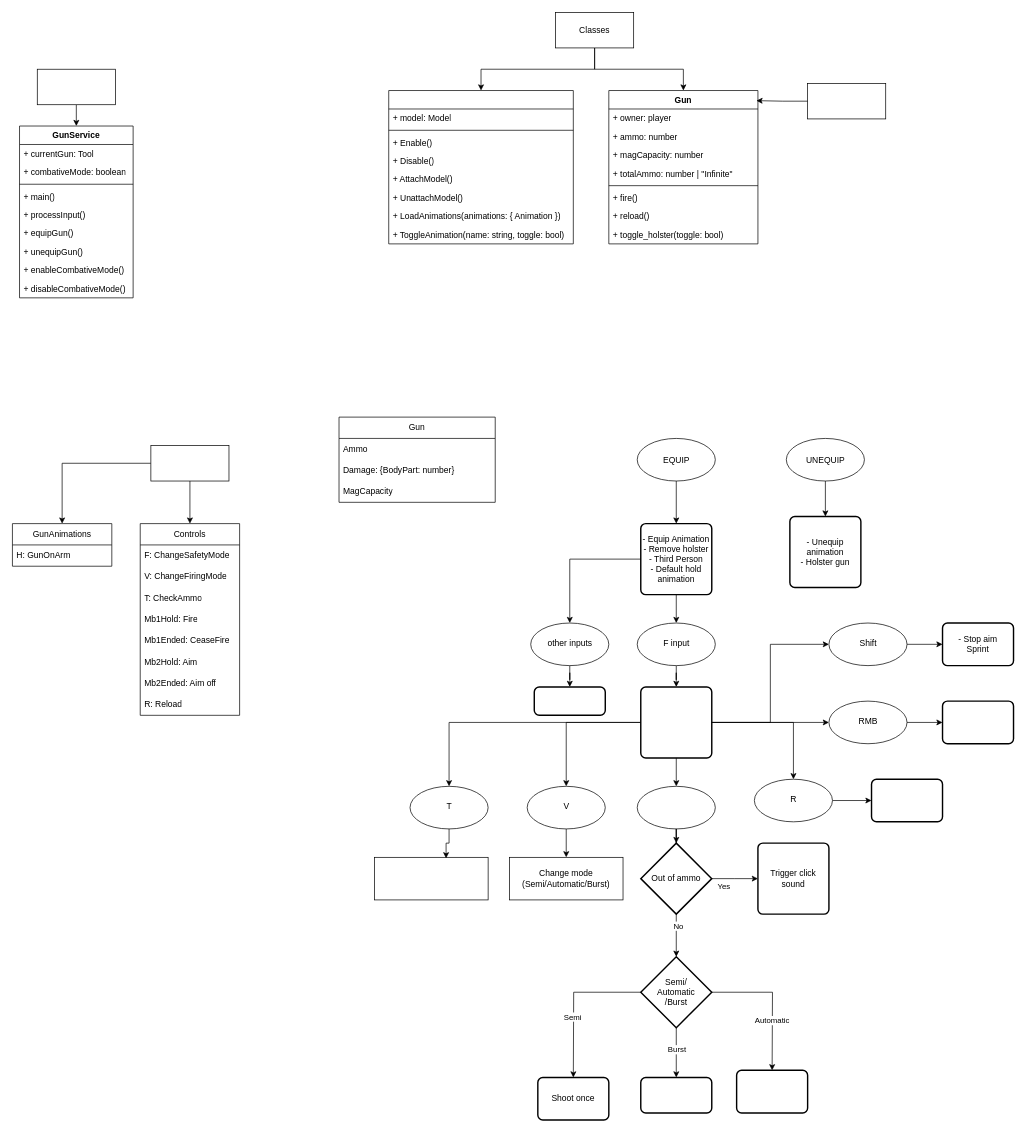
The diagram is 1027 pixels wide and 1133 high, and some of its shapes have lost their labels. Each missing label, with the box of its shape:
- Stop sprint Aim: (941, 700, 1014, 744)
Check ammo: (374, 857, 488, 900)
Constants: (150, 445, 229, 481)
FakeArms: (388, 90, 573, 244)
Gun animations: (533, 686, 606, 716)
Gun Tools: (807, 83, 886, 119)
Lock first person show fake arms allow shooting safety off anim: (640, 686, 712, 758)
Mb1Click: (637, 786, 715, 829)
Reload anim Set ammo: (870, 778, 943, 822)
Services: (37, 69, 115, 105)
Shoot some bullets: (640, 1076, 712, 1113)
Shoot until released/ out of ammo: (736, 1069, 808, 1113)
